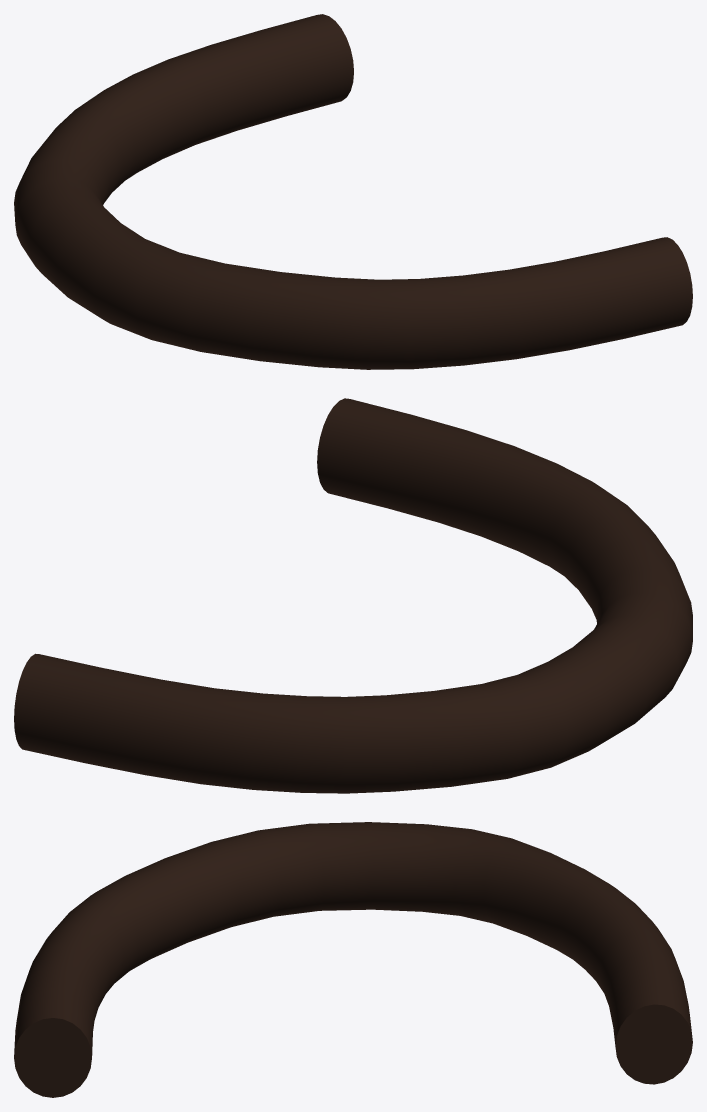
The model's file is lock_closed.FBX.
The picture shows the model from 3 angles, top to bottom: view 1: azimuth 30°, elevation 25°; view 2: azimuth 150°, elevation 25°; view 3: azimuth 270°, elevation 25°; orthographic projection. The views are drawn at different scales.
Parts seen in each view (by area): view 1: Cylinder001; view 2: Cylinder001; view 3: Cylinder001.
Part boxes in pixels (x1,y1,x2,y2): Cylinder001: (14,14,692,369); Cylinder001: (14,398,692,793); Cylinder001: (14,822,692,1097).
Size of the model in its own units: 8.01 by 1.42 by 10.93.
